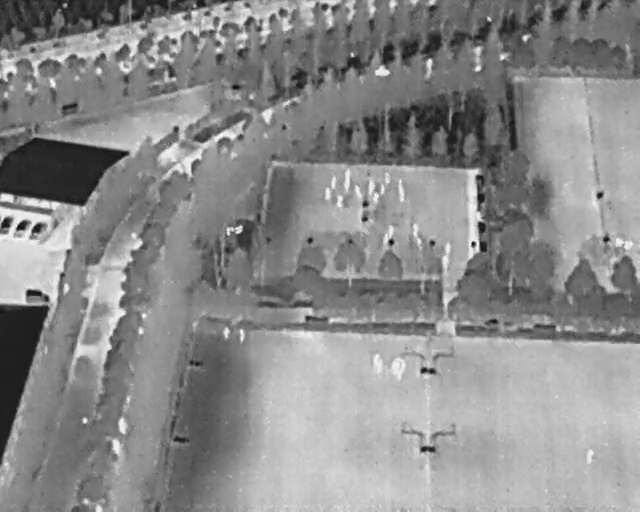DontCare: (373, 352, 408, 382)
Person: (585, 447, 594, 463), (368, 180, 376, 195), (442, 254, 450, 269), (222, 327, 231, 340), (325, 186, 332, 202), (330, 175, 337, 191), (239, 328, 246, 344), (399, 187, 406, 202), (354, 185, 362, 198), (382, 233, 389, 247), (444, 241, 451, 255), (337, 194, 344, 207), (384, 172, 391, 185), (373, 192, 380, 205), (415, 237, 422, 250), (344, 177, 350, 192), (345, 168, 351, 182), (413, 223, 419, 237), (380, 183, 386, 196), (397, 178, 403, 191), (388, 225, 394, 238)
